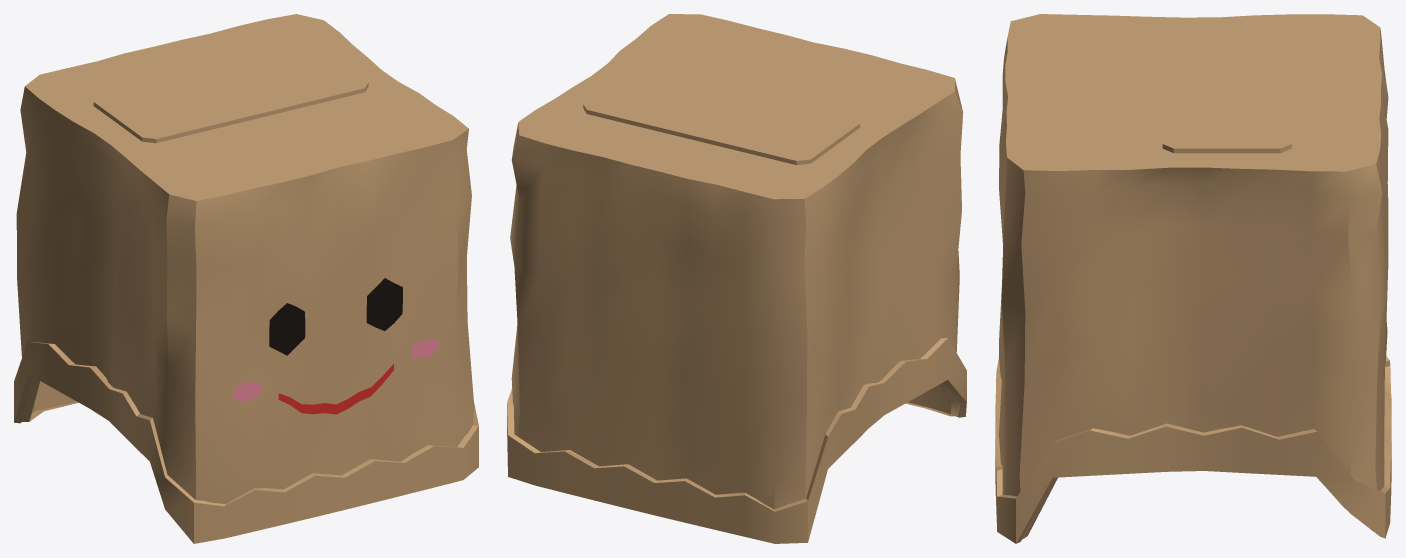
Rendered from Cosmetic_Hat_PaperBag.fbx.
The picture shows the model from 3 angles, left to right: view 1: azimuth 30°, elevation 25°; view 2: azimuth 150°, elevation 25°; view 3: azimuth 270°, elevation 25°; orthographic projection. The views are drawn at different scales.
Parts seen in each view (by area): view 1: Bag, EyeHoles, Smile, Cheeks; view 2: Bag; view 3: Bag.
Boxes of the visible parts, x1,y1,x2,y2 form: Bag: (14, 14, 478, 543); EyeHoles: (269, 278, 402, 355); Smile: (278, 364, 393, 414); Cheeks: (231, 339, 439, 401); Bag: (507, 14, 966, 543); Bag: (995, 14, 1391, 543).
Size of the model in its own units: 140 by 147 by 141.
